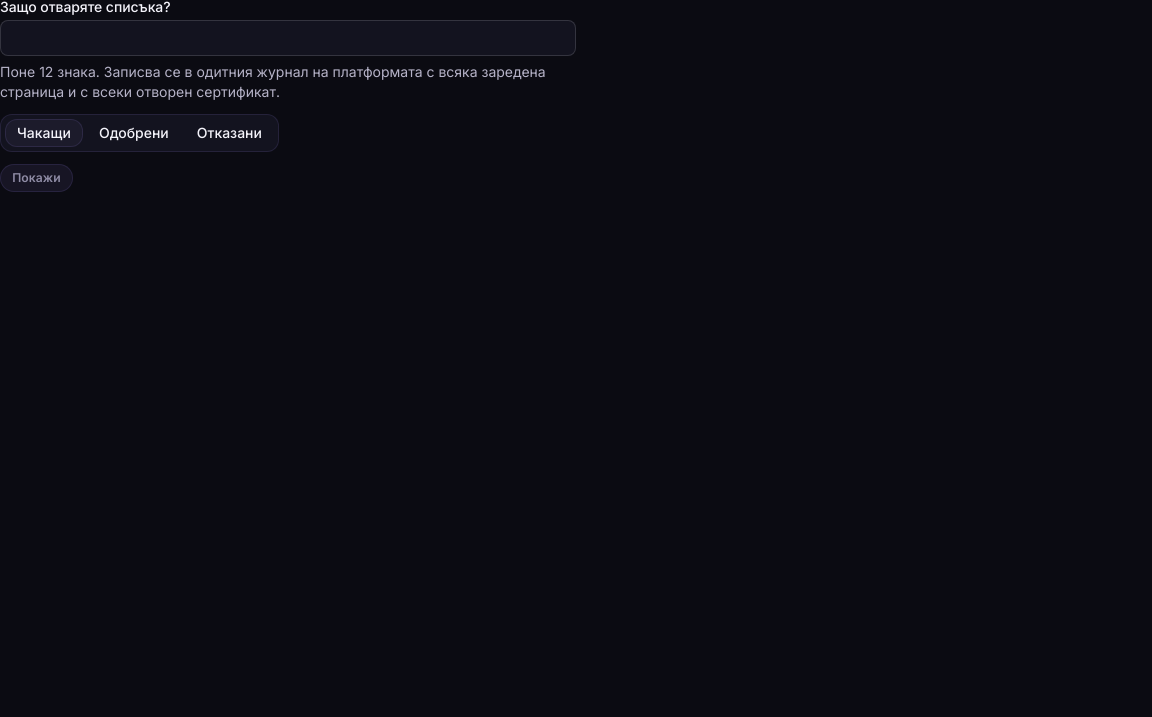
Test: opening the list › reads ONE page of the waiting profiles, and shows all the owner needs to decide
Type "approving the pilot coaches, 14 October" into the field labelled "Защо отваряте списъка?". click: x=288, y=38
box: [0, 20, 576, 56]
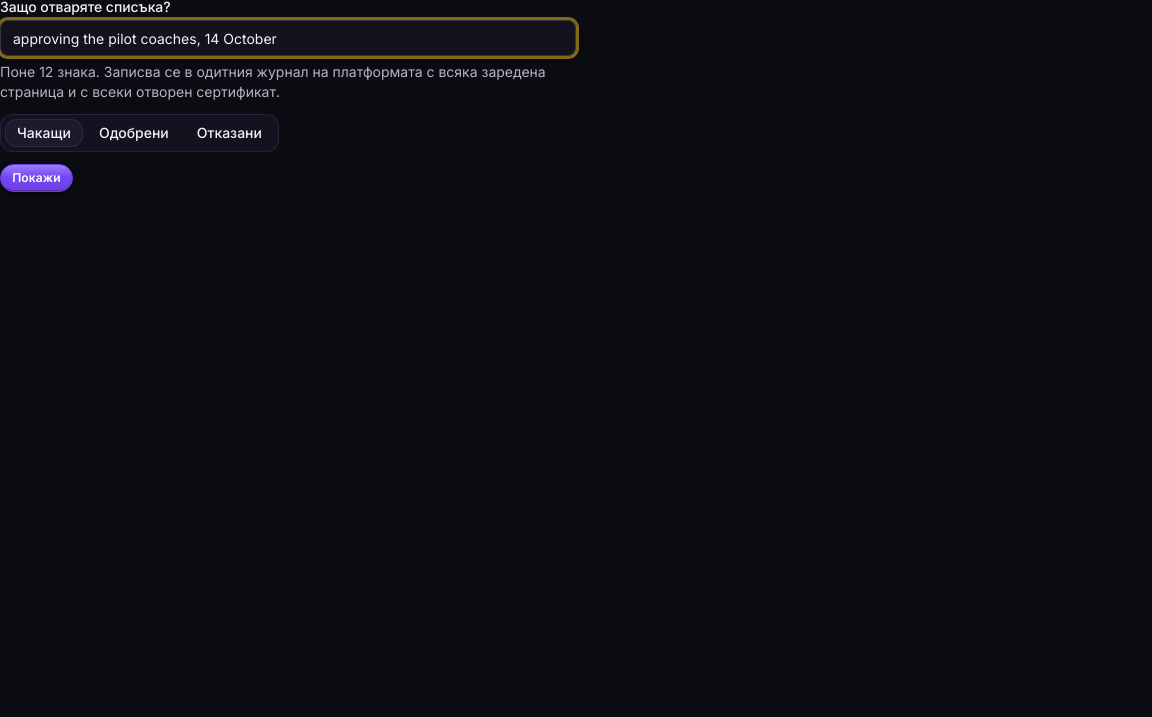
Click the button "Покажи". click: x=36, y=178
box: [0, 164, 73, 192]
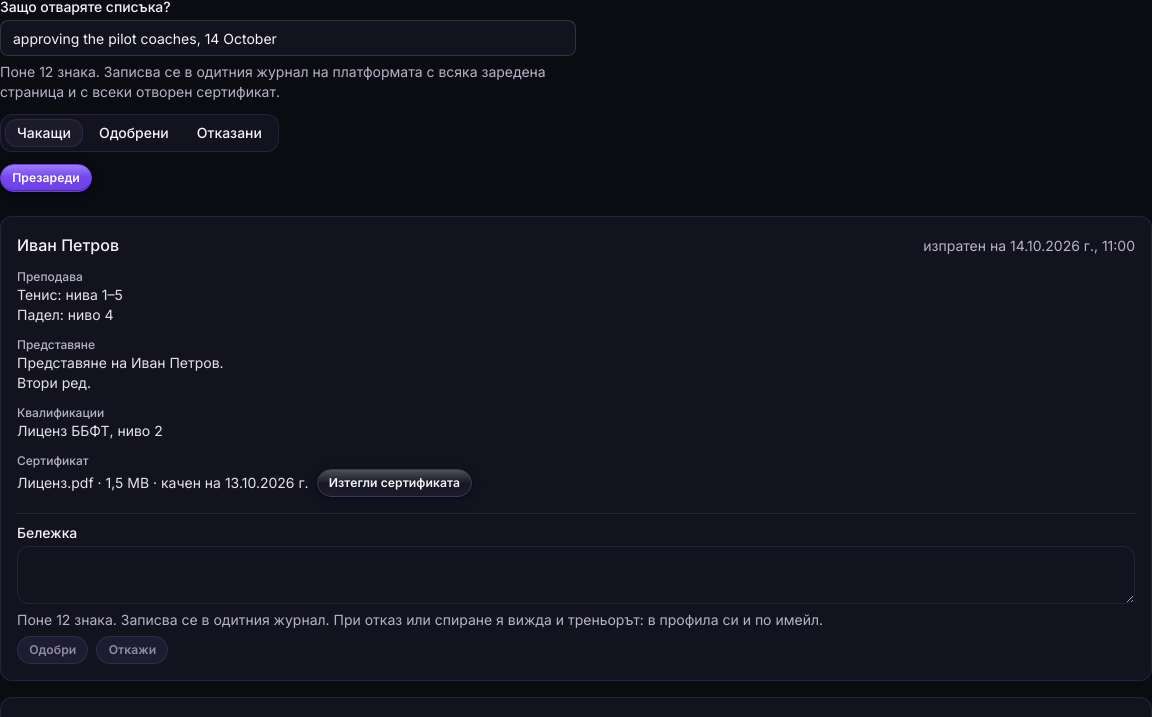
Expected: the text "Иван Петров" is shown, [17, 233, 119, 257]
Expected: the list item "Иван Петров" shows "Тенис: нива 1–5", [17, 286, 123, 303]
Expected: the list item "Иван Петров" shows "Падел: ниво 4", [17, 306, 114, 323]
